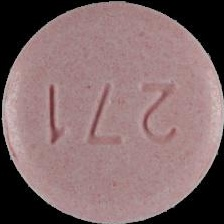53808-0858: (0, 0, 224, 224)
